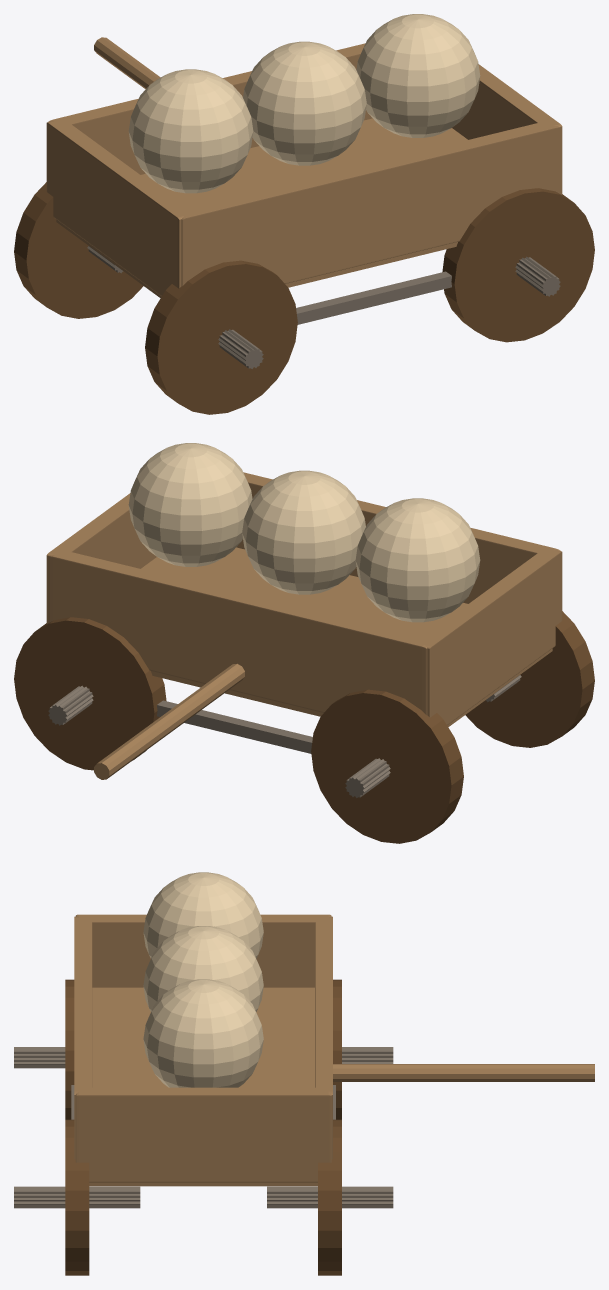
Rendered from cart.glb.
The picture shows the model from 3 angles, top to bottom: view 1: azimuth 30°, elevation 25°; view 2: azimuth 150°, elevation 25°; view 3: azimuth 270°, elevation 25°; orthographic projection. The views are drawn at different scales.
Parts seen in each view (by area): view 1: cart; view 2: cart; view 3: cart.
Boxes of the visible parts, x1,y1,x2,y2 form: cart: (14,14,594,414); cart: (14,443,594,843); cart: (14,872,594,1275).
Size of the model in its own units: 1.62 by 0.98 by 1.93.
